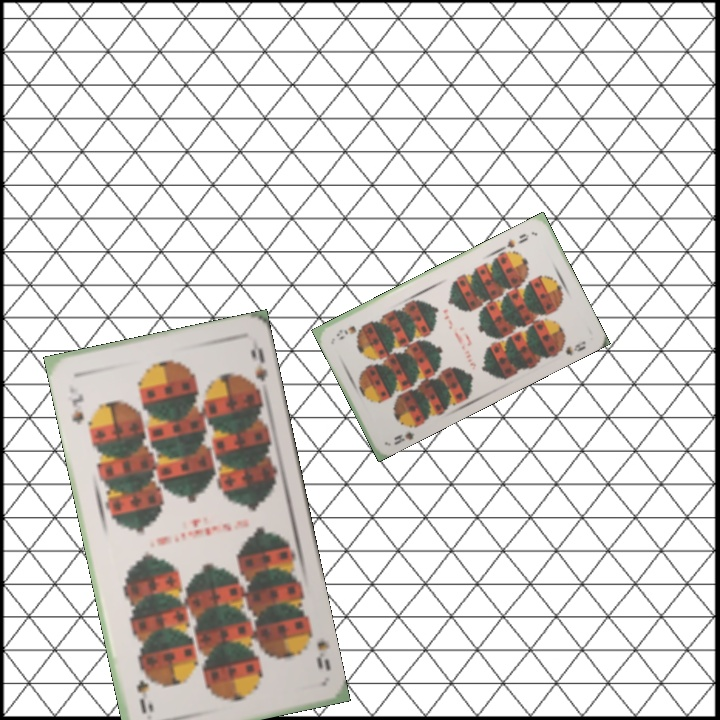S9: (302, 622, 333, 673), (390, 417, 422, 448), (498, 229, 532, 252), (68, 389, 86, 427)
